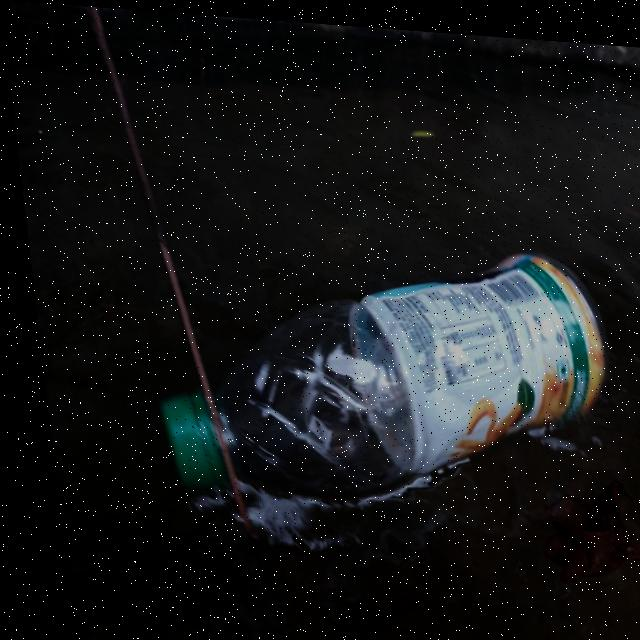leaf: (524, 436, 640, 640), (368, 606, 465, 640)
waterbottle: (125, 215, 617, 519)
